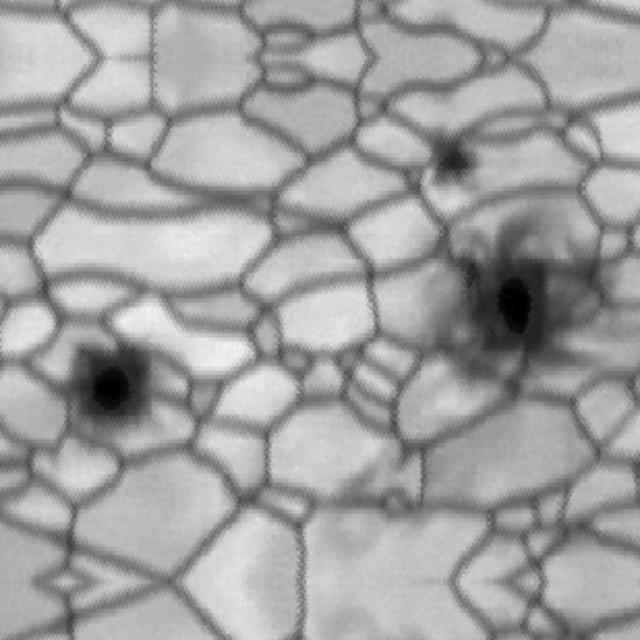good_void: (435, 204, 634, 388), (57, 333, 188, 434), (404, 119, 486, 204)
